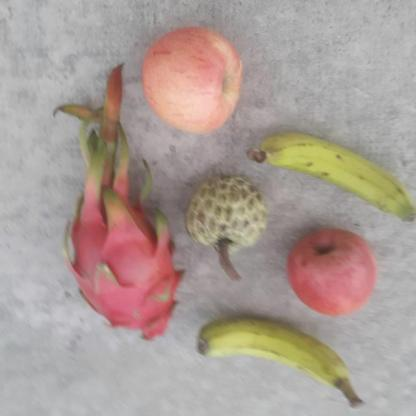annona: (182, 174, 269, 258)
apple: (286, 229, 382, 318)
banana: (194, 313, 362, 409), (252, 133, 416, 223)
pitaya: (57, 182, 189, 344)
